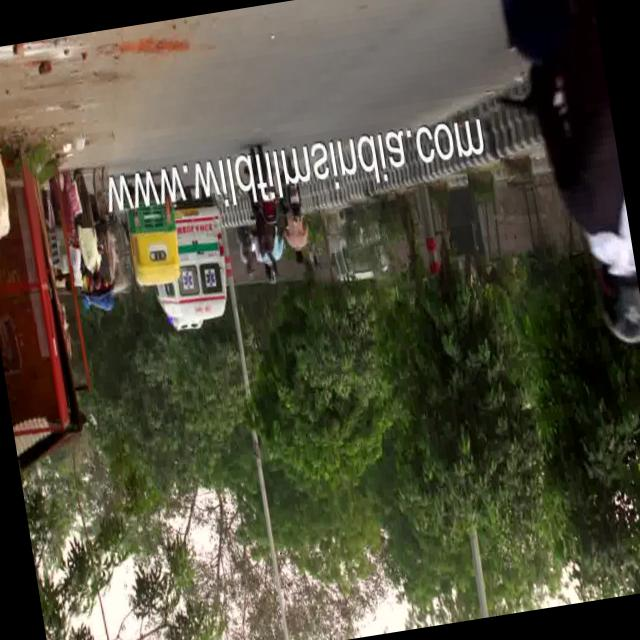ambulance: (158, 206, 229, 334)
